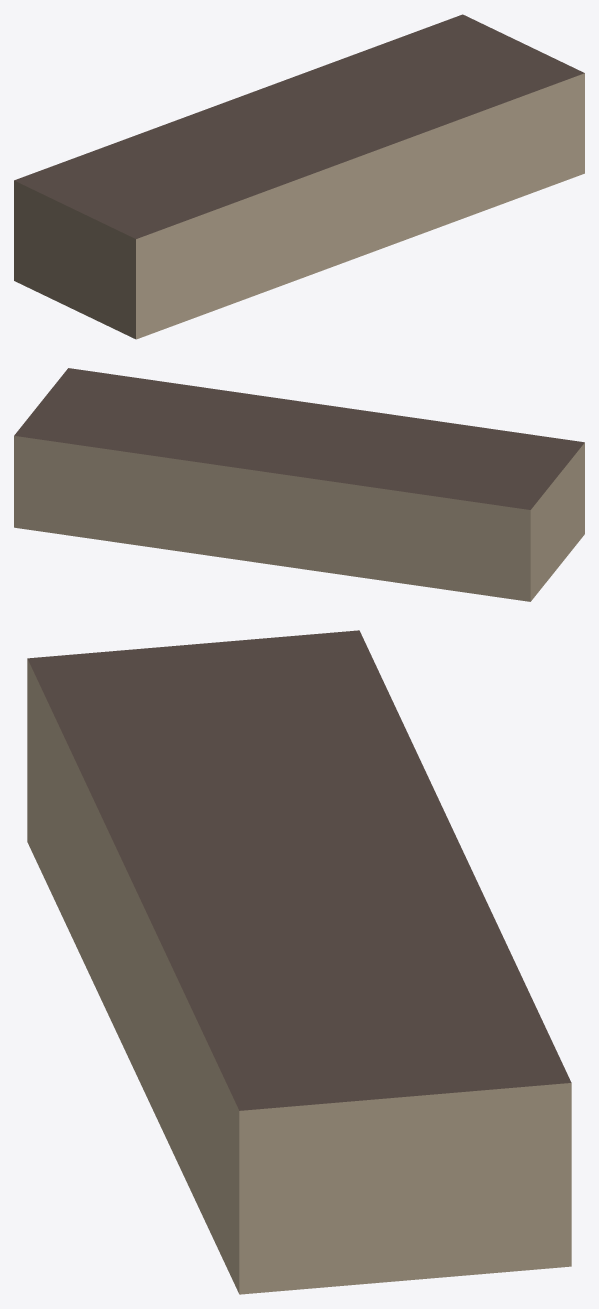
3 views of the same model, one above another, from view 1: azimuth 30°, elevation 25°; view 2: azimuth 150°, elevation 25°; view 3: azimuth 270°, elevation 25° (orthographic). The views are drawn at different scales.
Visible parts, largest first — view 1: HP-w859078972; view 2: HP-w859078972; view 3: HP-w859078972.
Part boxes in pixels (x1,y1,x2,y2): HP-w859078972: (14,14,584,339); HP-w859078972: (14,368,584,601); HP-w859078972: (27,630,571,1294).
Bounding box in the file's own units: 50.48 × 9 × 24.16.
